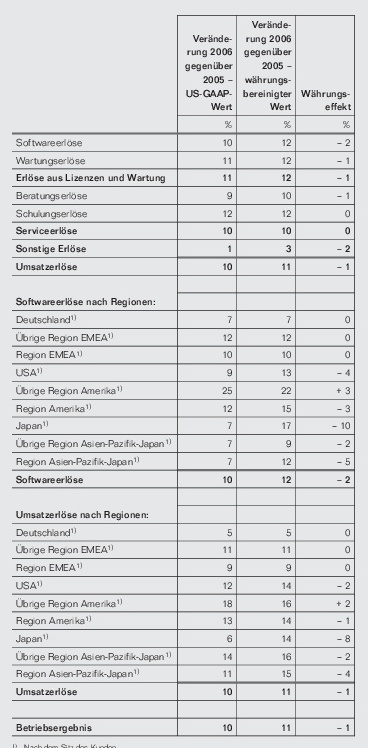table: (0, 0, 368, 748)
